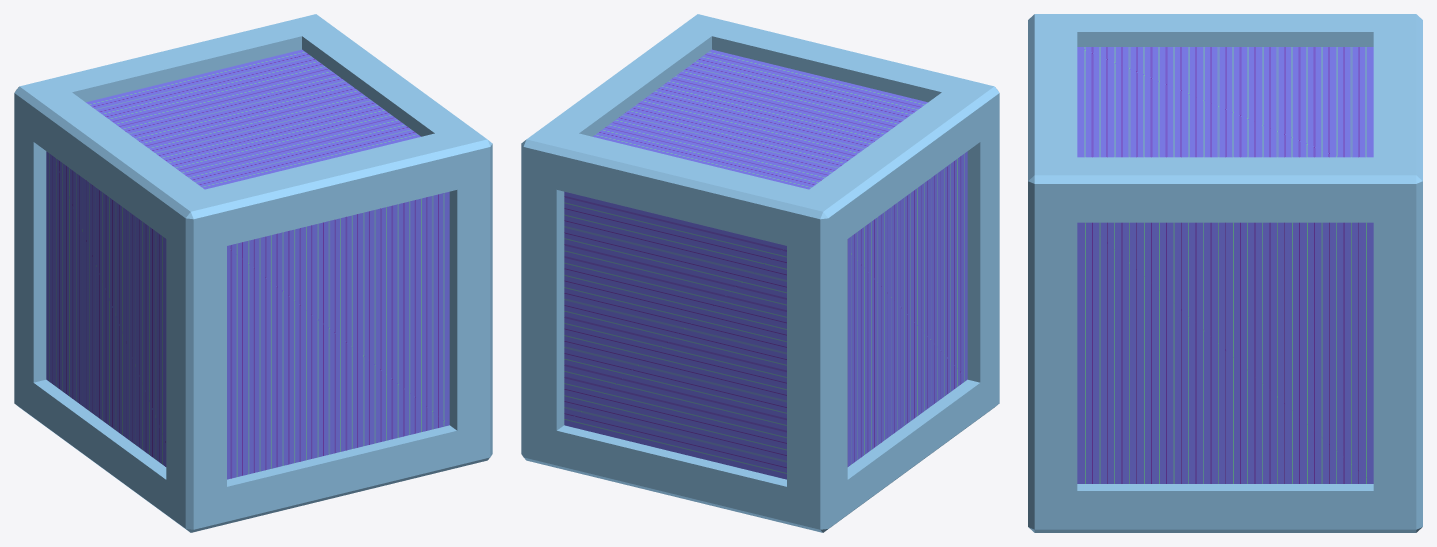
File: WoodBlocks_Bl_01.FBX
3 views of the same model, side by side, from view 1: azimuth 30°, elevation 25°; view 2: azimuth 150°, elevation 25°; view 3: azimuth 270°, elevation 25° (orthographic). The views are drawn at different scales.
Visible parts, largest first — view 1: WoodBlocks_Bl_Rough_01, WoodBlocks_Bl_01; view 2: WoodBlocks_Bl_Rough_01, WoodBlocks_Bl_01; view 3: WoodBlocks_Bl_Rough_01, WoodBlocks_Bl_01.
Boxes of the visible parts, x1=… form: WoodBlocks_Bl_Rough_01: x1=46, y1=49, x2=449, y2=479; WoodBlocks_Bl_01: x1=14, y1=14, x2=492, y2=532; WoodBlocks_Bl_Rough_01: x1=564, y1=49, x2=967, y2=479; WoodBlocks_Bl_01: x1=521, y1=14, x2=999, y2=532; WoodBlocks_Bl_Rough_01: x1=1077, y1=47, x2=1373, y2=483; WoodBlocks_Bl_01: x1=1028, y1=14, x2=1422, y2=532.
Size of the model in its own units: 1.2 by 1.2 by 1.2.
